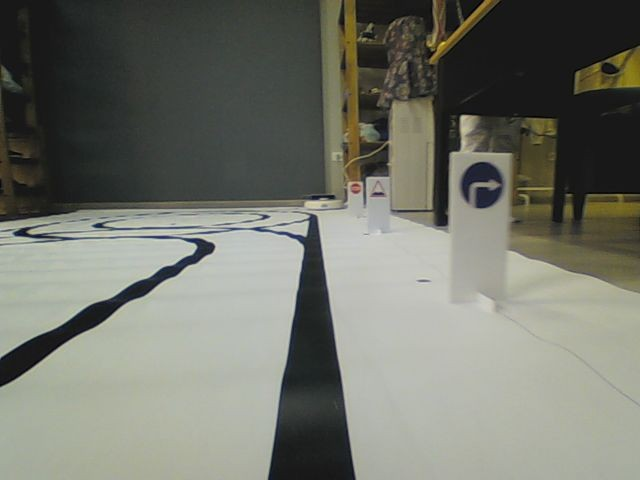Nerov: (369, 179, 387, 198)
Right: (460, 161, 504, 209)
